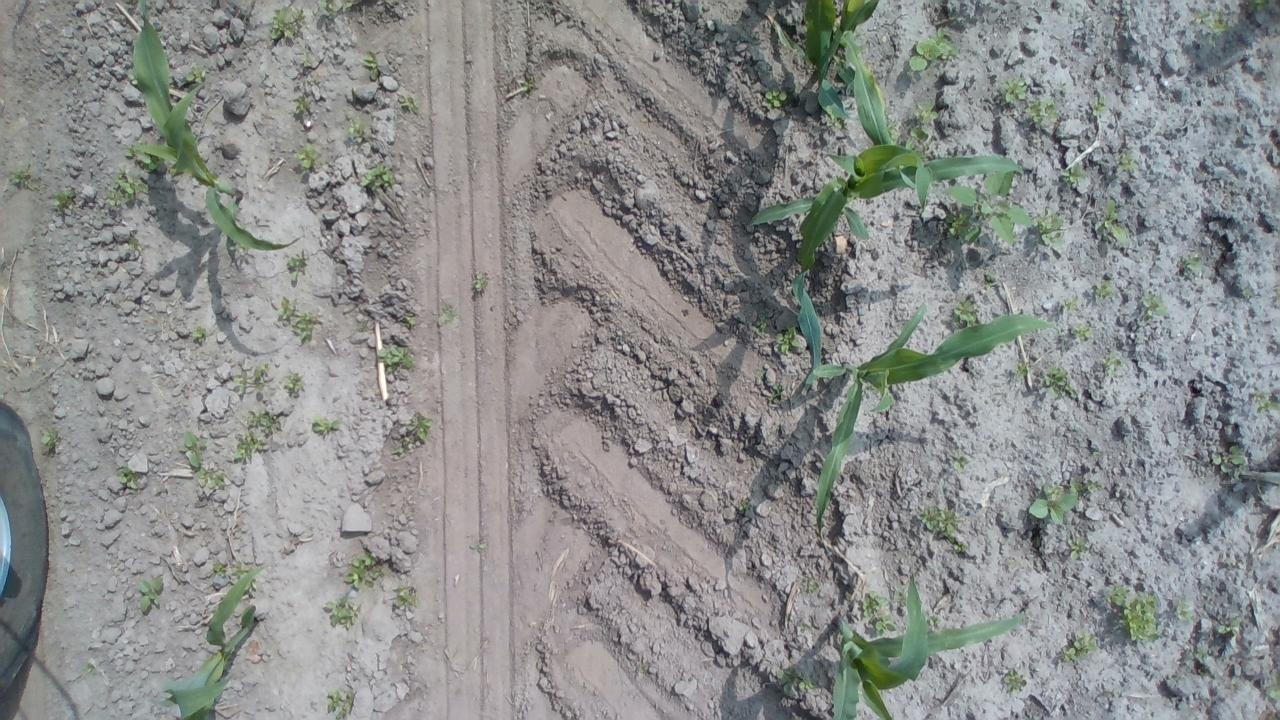Maize: (750, 24, 1024, 392), (811, 303, 1065, 544), (134, 0, 301, 251), (830, 575, 1026, 720), (150, 561, 270, 720), (770, 0, 881, 124)
Weeds: (944, 170, 1032, 246), (910, 26, 956, 71), (1028, 484, 1078, 524), (1118, 596, 1160, 643), (916, 506, 962, 543), (106, 166, 148, 206), (1096, 198, 1128, 244), (269, 5, 306, 41), (1039, 366, 1078, 400), (343, 557, 384, 589), (1036, 207, 1066, 250), (326, 594, 360, 630), (124, 142, 164, 172), (778, 666, 819, 695), (1063, 630, 1098, 662), (1213, 446, 1248, 477), (179, 430, 207, 468), (1024, 97, 1062, 125), (377, 344, 412, 373), (232, 432, 265, 461), (246, 408, 282, 434), (138, 578, 164, 612), (951, 296, 978, 328), (292, 312, 320, 342), (7, 164, 38, 191), (362, 166, 396, 190), (294, 143, 322, 170), (862, 590, 890, 617), (406, 413, 432, 442), (1058, 159, 1088, 184), (1001, 77, 1026, 107), (775, 324, 800, 354), (1142, 292, 1166, 322), (1178, 252, 1206, 277), (1100, 350, 1124, 379), (1002, 668, 1028, 694), (1210, 12, 1230, 44), (196, 466, 224, 488), (115, 466, 143, 488), (310, 415, 340, 435), (361, 49, 380, 80), (1253, 391, 1280, 412), (914, 100, 938, 123), (904, 127, 928, 150), (764, 87, 788, 110), (1217, 617, 1243, 638), (1070, 478, 1104, 494), (394, 586, 418, 608), (346, 118, 366, 144), (337, 691, 356, 718), (286, 253, 305, 280), (1106, 584, 1130, 605), (1114, 151, 1138, 172), (253, 362, 270, 391), (875, 614, 896, 637), (1068, 536, 1088, 560), (438, 304, 459, 326), (278, 297, 298, 320), (1093, 279, 1114, 300), (1070, 321, 1091, 341), (317, 0, 339, 19), (52, 190, 74, 209), (284, 373, 306, 392), (398, 94, 420, 113), (1175, 597, 1193, 620), (754, 312, 771, 336), (1266, 672, 1280, 701), (186, 66, 208, 84), (392, 437, 414, 455), (326, 690, 341, 714), (952, 451, 969, 472), (42, 427, 58, 449), (1013, 361, 1030, 381), (1090, 96, 1107, 116), (884, 120, 898, 144), (826, 107, 842, 128), (231, 561, 248, 579), (472, 273, 488, 291), (1062, 294, 1080, 310), (234, 371, 247, 391), (1192, 11, 1210, 25), (1247, 0, 1268, 12), (768, 384, 782, 402), (468, 540, 488, 552), (298, 51, 312, 68), (893, 589, 907, 606), (192, 326, 206, 342), (802, 580, 818, 594), (340, 0, 360, 11), (294, 96, 306, 114), (1198, 668, 1216, 680), (213, 562, 227, 577), (124, 238, 138, 252), (228, 242, 245, 253), (953, 539, 967, 552), (984, 273, 994, 291), (245, 580, 257, 594), (926, 616, 940, 627), (522, 80, 534, 92), (1241, 285, 1252, 298), (796, 623, 810, 633), (404, 316, 416, 327), (1196, 650, 1208, 661), (738, 499, 749, 510), (128, 72, 138, 84), (83, 664, 94, 674), (638, 664, 647, 676), (1092, 450, 1100, 456)
